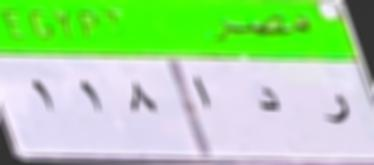1: (28, 70, 60, 120), (78, 75, 111, 120)
8: (125, 80, 160, 120)
alif: (189, 72, 221, 113)
daal: (248, 82, 288, 118)
raa: (323, 87, 352, 134)
